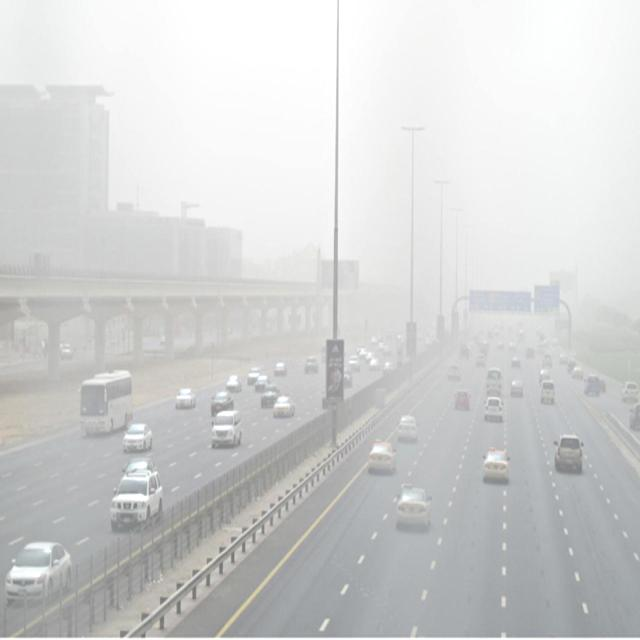Bus: (78, 370, 133, 436)
Car: (4, 540, 72, 606), (109, 468, 163, 534), (392, 487, 433, 530), (554, 435, 586, 474), (367, 438, 398, 478), (480, 449, 513, 481), (121, 423, 153, 455), (120, 458, 158, 474), (398, 414, 420, 441), (210, 391, 234, 414), (273, 394, 294, 417), (484, 397, 504, 421), (176, 388, 196, 410), (261, 385, 278, 407), (454, 388, 471, 409), (584, 375, 600, 396), (621, 383, 639, 401), (225, 376, 243, 394), (446, 364, 462, 382), (629, 402, 640, 428), (510, 378, 524, 397), (255, 375, 270, 391), (304, 357, 318, 373), (248, 367, 261, 384), (60, 343, 73, 360), (344, 368, 354, 388), (349, 355, 361, 371), (274, 361, 286, 376), (475, 353, 487, 367), (572, 366, 584, 380), (383, 361, 395, 374), (460, 345, 471, 359), (539, 369, 551, 381), (369, 358, 380, 371), (566, 358, 576, 371), (542, 354, 552, 366), (511, 356, 521, 368), (526, 347, 535, 359), (600, 378, 606, 392), (560, 353, 568, 363), (497, 340, 504, 349)
Van: (210, 409, 243, 447), (485, 367, 505, 397)
